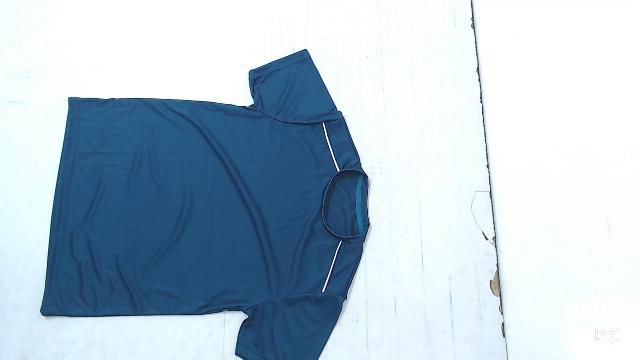new-garment: (40, 49, 369, 360)
